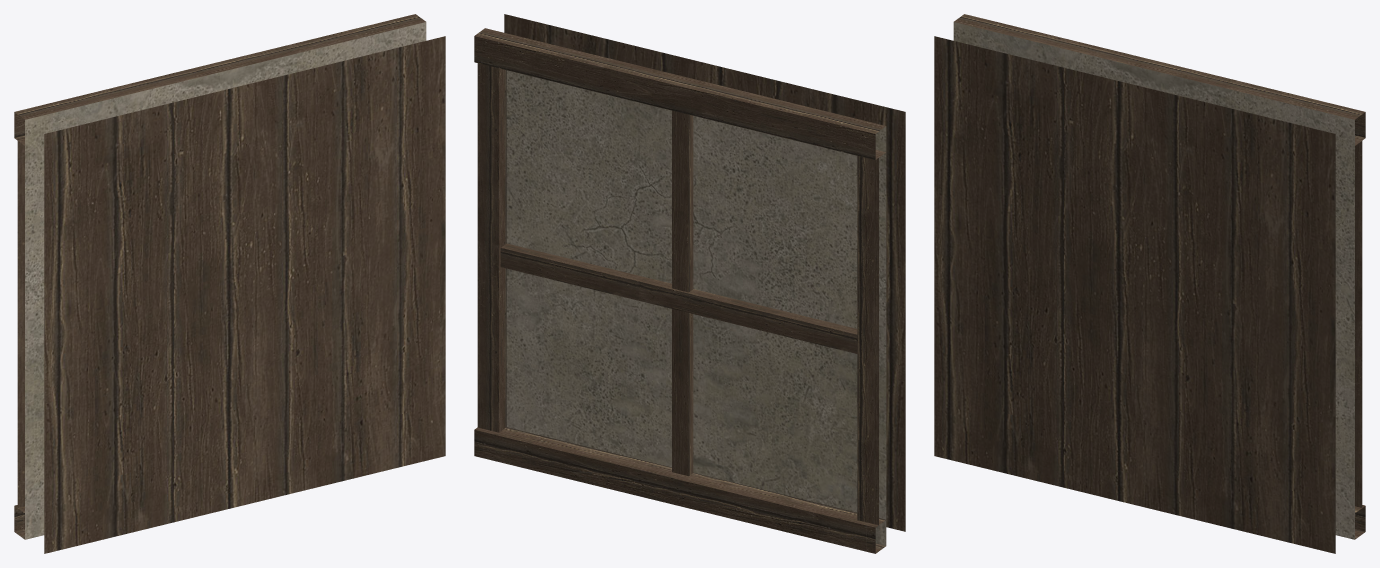
Rendered from ARC1010306.fbx.
3 views of the same model, side by side, from view 1: azimuth 30°, elevation 25°; view 2: azimuth 150°, elevation 25°; view 3: azimuth 330°, elevation 25° (orthographic).
Visible parts, largest first — view 1: smARC1010306; view 2: smARC1010306; view 3: smARC1010306.
Boxes of the visible parts, x1,y1,x2,y2 form: smARC1010306: (14, 14, 445, 553); smARC1010306: (474, 14, 905, 553); smARC1010306: (934, 14, 1365, 553).
Size of the model in its own units: 268 by 268 by 34.9.
1 material, 1 textured.
